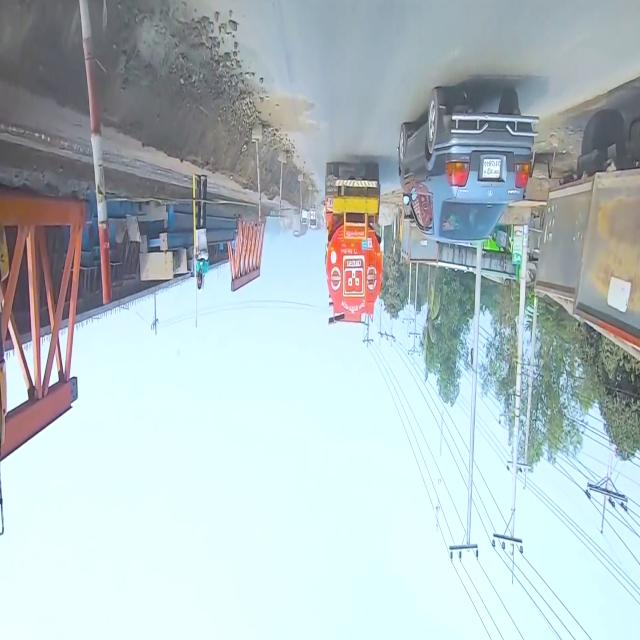black: (397, 86, 540, 247)
